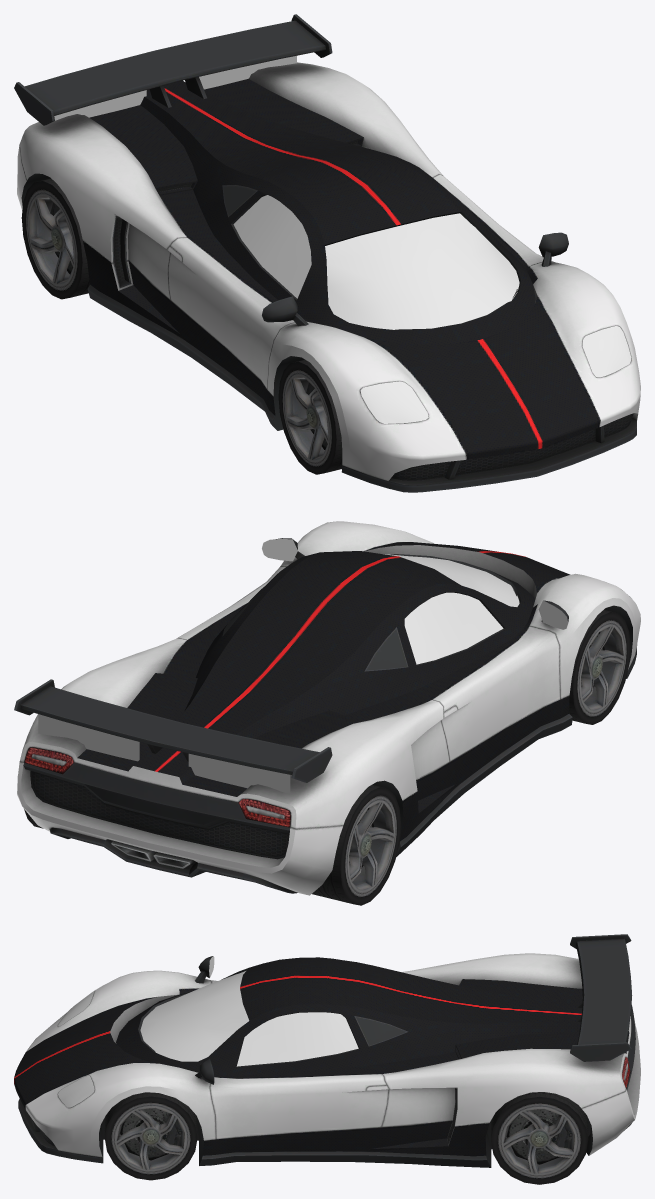
File: PlayerCar_2.fbx
3 views of the same model, one above another, from view 1: azimuth 30°, elevation 25°; view 2: azimuth 150°, elevation 25°; view 3: azimuth 270°, elevation 25° (orthographic). The views are drawn at different scales.
Visible parts, largest first — view 1: Body_22, Matte_22, Glass_22, Wheel_Back_R, Wheel_R, Glass_light, Light, Light_1; view 2: Body_22, Matte_22, Glass_22, Wheel_Back_R, Wheel_R, Light_1, Light, Taillights_22; view 3: Body_22, Matte_22, Glass_22, Wheel_Back_L, Wheel_L, break_L, Glass_light.
Boxes of the visible parts, x1,y1,x2,y2 form: Body_22: (17, 62, 640, 481); Matte_22: (14, 14, 636, 492); Glass_22: (233, 195, 519, 329); Wheel_Back_R: (21, 178, 89, 299); Wheel_R: (278, 359, 342, 474); Glass_light: (360, 325, 631, 423); Light: (199, 55, 296, 89); Light_1: (54, 90, 146, 120); Body_22: (17, 521, 640, 895); Matte_22: (14, 538, 636, 893); Glass_22: (383, 554, 519, 664); Wheel_Back_R: (312, 785, 400, 905); Wheel_R: (569, 610, 630, 724); Light_1: (188, 753, 290, 798); Light: (38, 714, 139, 771); Taillights_22: (24, 747, 290, 827); Body_22: (14, 953, 640, 1157); Matte_22: (18, 934, 635, 1167); Glass_22: (140, 971, 358, 1066); Wheel_Back_L: (491, 1092, 588, 1184); Wheel_L: (104, 1092, 197, 1180); break_L: (120, 1108, 182, 1160); Glass_light: (58, 991, 94, 1107).
Size of the model in its own units: 315 by 173 by 670.
